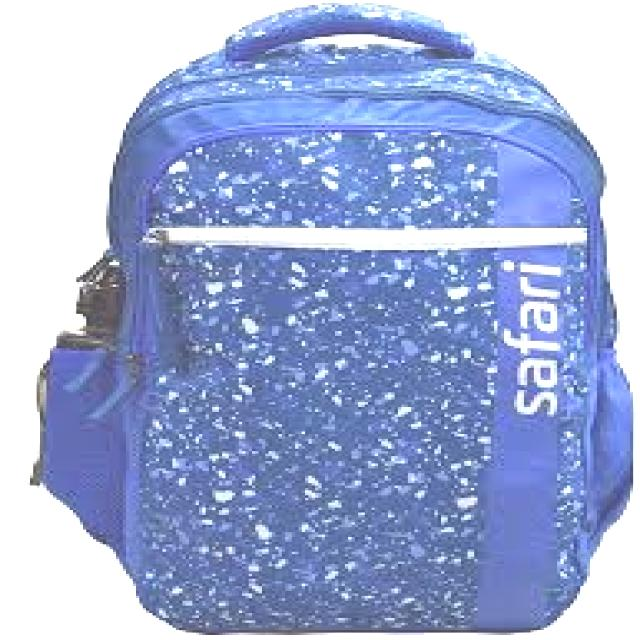backpack: (28, 1, 635, 636)
